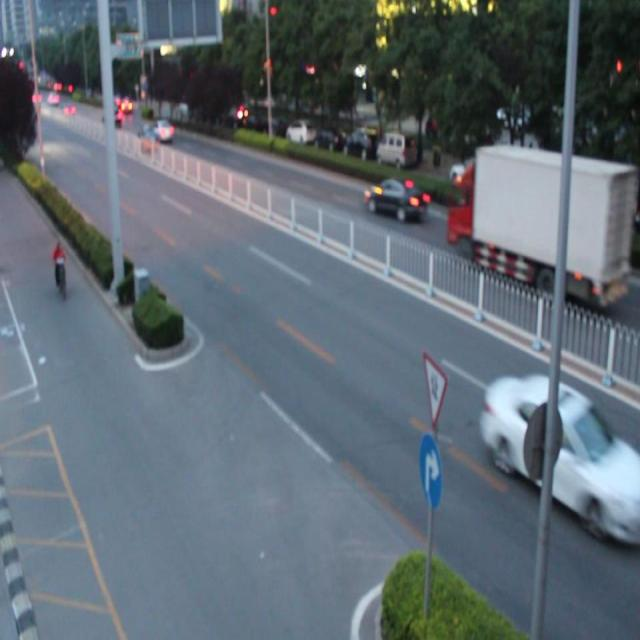bus: (445, 142, 631, 313)
car: (481, 372, 623, 541), (364, 179, 429, 226), (134, 124, 162, 158), (151, 118, 175, 146)
